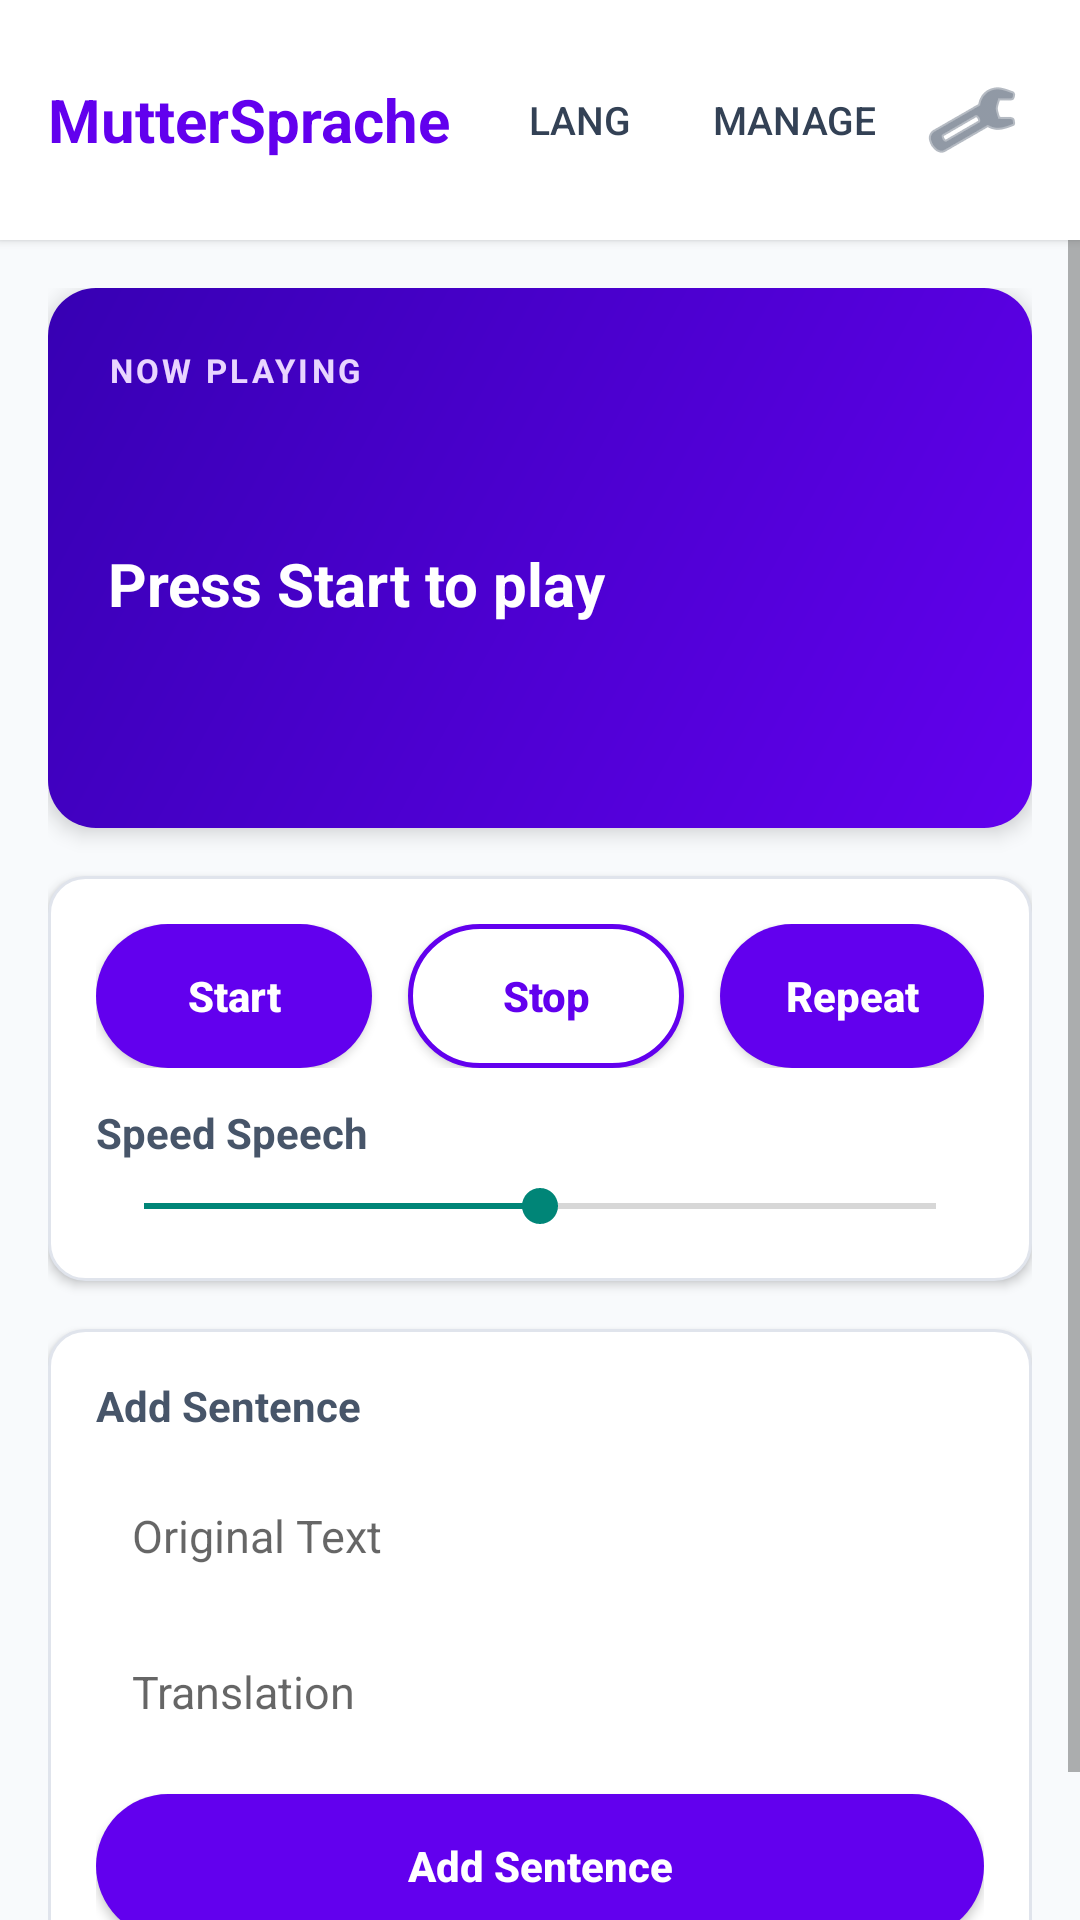

Point at icon controls on the screen. Image size 1080px×1920px, points as (x,y).
Settings: (972,120)
